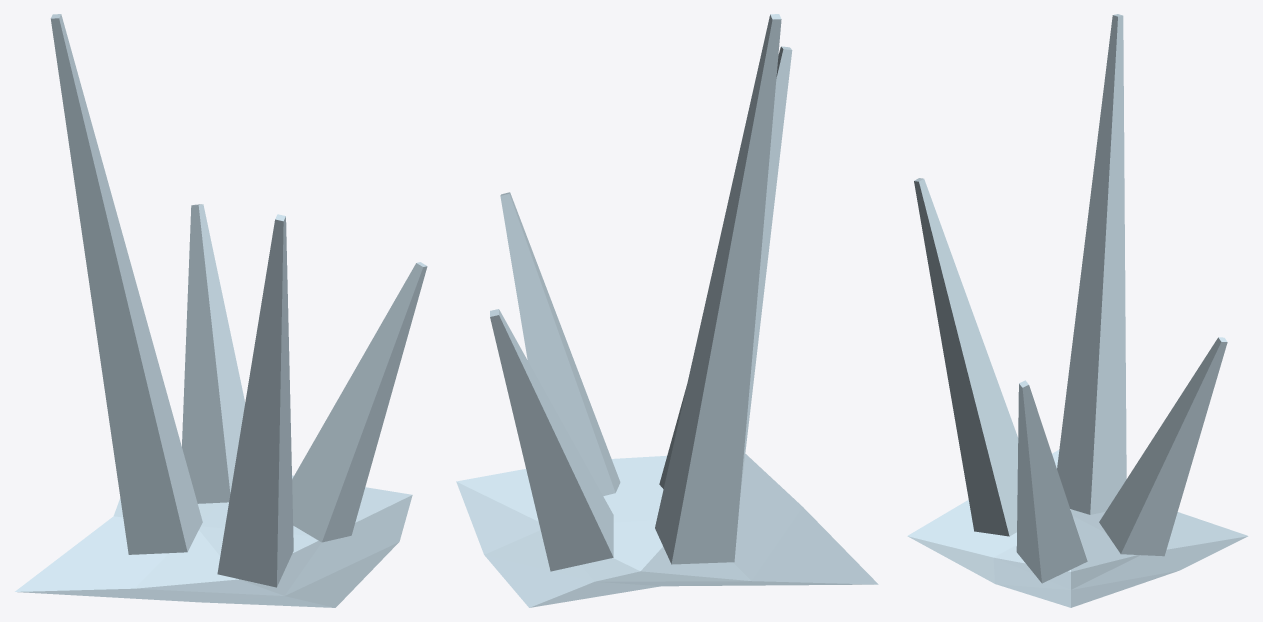
File: ice_shard_v25.glb
3 views of the same model, side by side, from view 1: azimuth 30°, elevation 25°; view 2: azimuth 150°, elevation 25°; view 3: azimuth 270°, elevation 25° (orthographic). The views are drawn at different scales.
Parts seen in each view (by area): view 1: lod0; view 2: lod0; view 3: lod0.
Part boxes in pixels (x1=…): lod0: x1=15, y1=14, x2=427, y2=607; lod0: x1=456, y1=14, x2=878, y2=607; lod0: x1=907, y1=14, x2=1248, y2=607.
Size of what is drawn, in the model's own units: 0.7354 by 1.03 by 0.6447.
